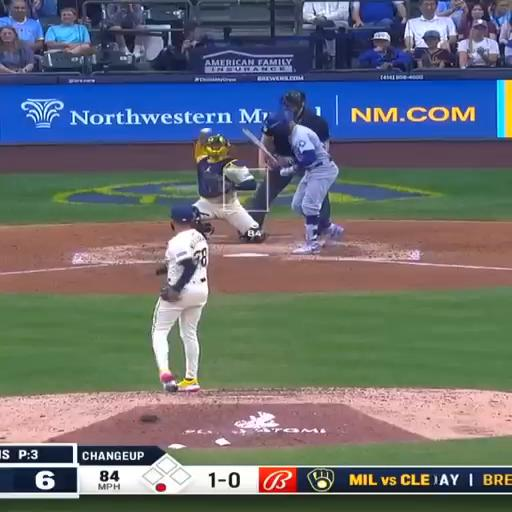bat: (242, 128, 277, 163)
